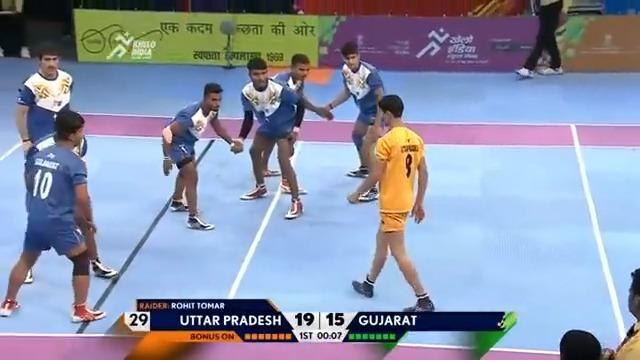Player: (0, 110, 107, 323), (160, 82, 243, 230), (233, 56, 306, 218), (322, 40, 385, 201), (267, 53, 333, 194), (514, 0, 565, 79)
Raider: (346, 93, 435, 312)
